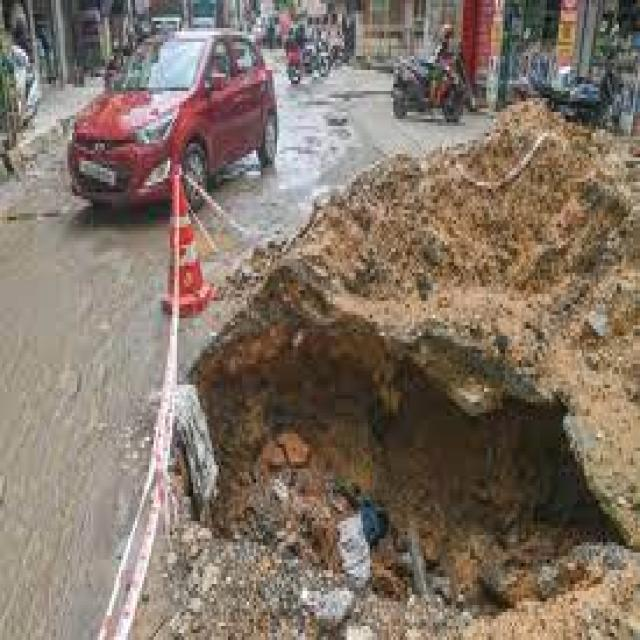Pothole: (186, 332, 607, 609)
